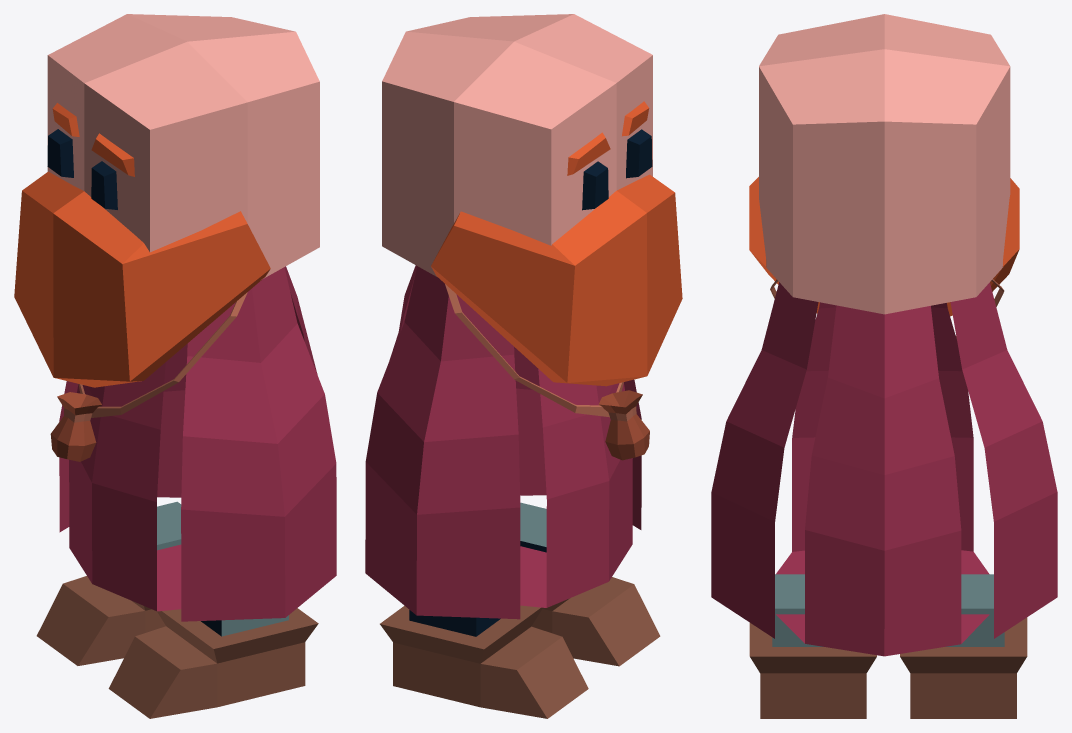
File: SK_Earl.fbx
3 renders of one model, left to right at view 1: azimuth 30°, elevation 25°; view 2: azimuth 150°, elevation 25°; view 3: azimuth 270°, elevation 25°, orthographic. The views are drawn at different scales.
Visible parts, largest first — view 1: SK_Earl; view 2: SK_Earl; view 3: SK_Earl.
Boxes of the visible parts, bbox=[...] form: SK_Earl: bbox=[14, 14, 336, 718]; SK_Earl: bbox=[365, 14, 682, 718]; SK_Earl: bbox=[711, 14, 1057, 718].
Size of the model in its own units: 58.74 by 130 by 63.84.
